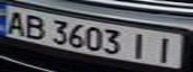0: (81, 24, 106, 53)
3: (45, 17, 72, 46), (103, 26, 127, 56)
6: (66, 21, 87, 50)
A: (0, 8, 30, 35)
B: (18, 12, 48, 39)
I: (148, 34, 184, 64), (127, 29, 157, 61)
